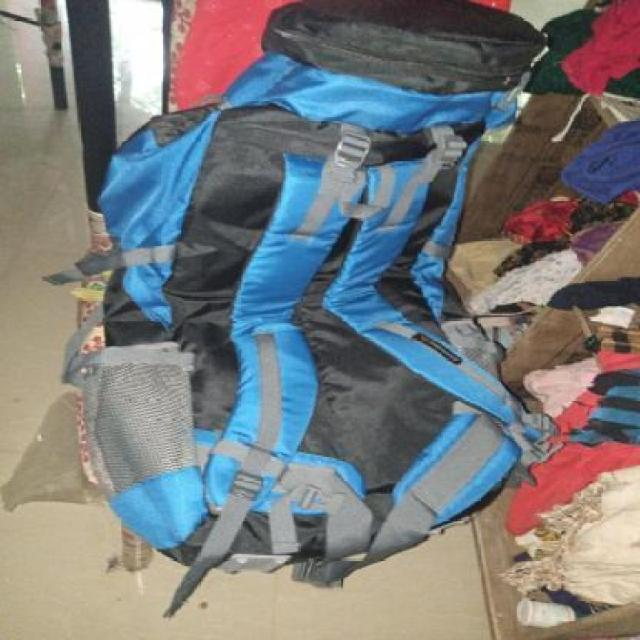backpack: (64, 48, 564, 592)
